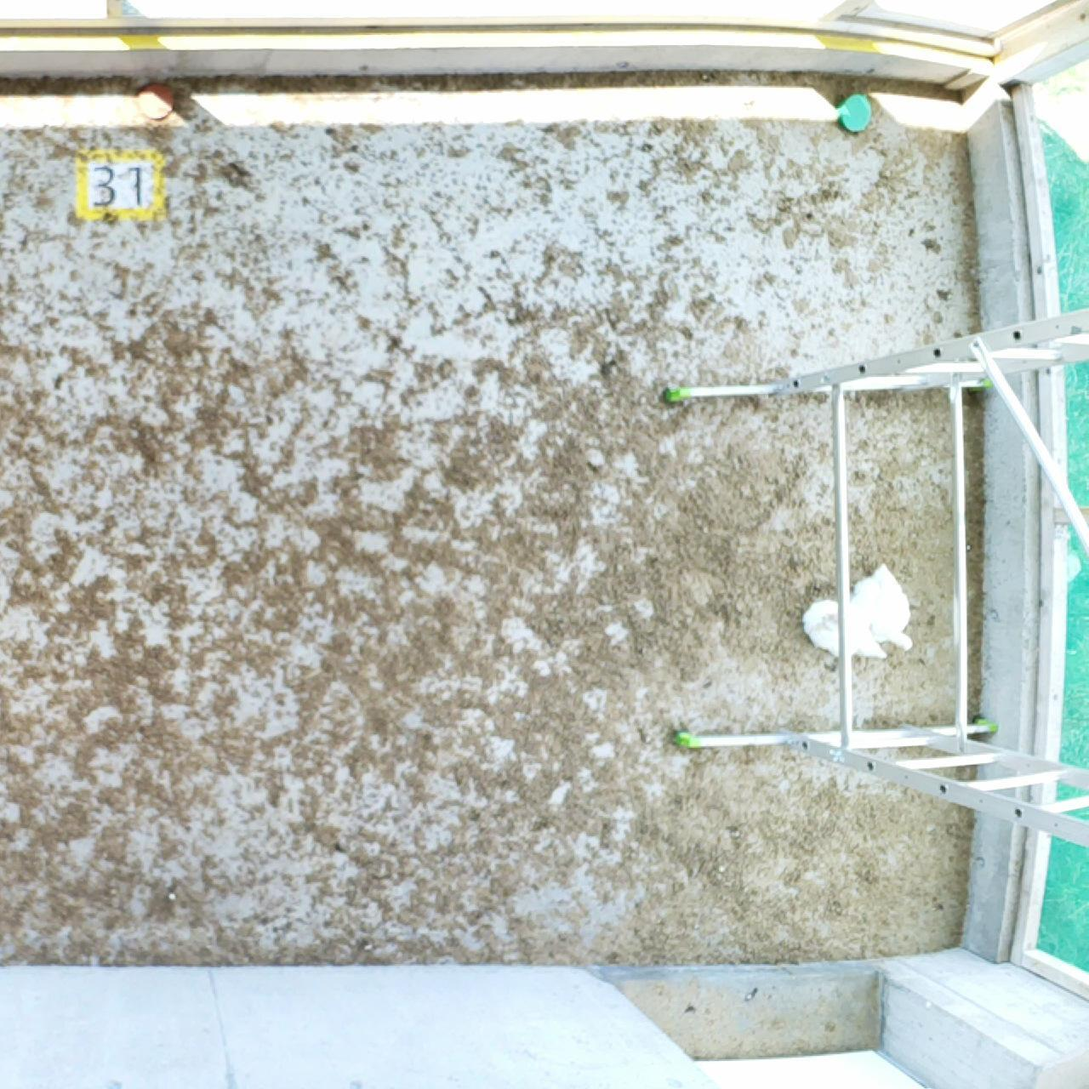chicken: (854, 562, 914, 651), (802, 600, 887, 659)
